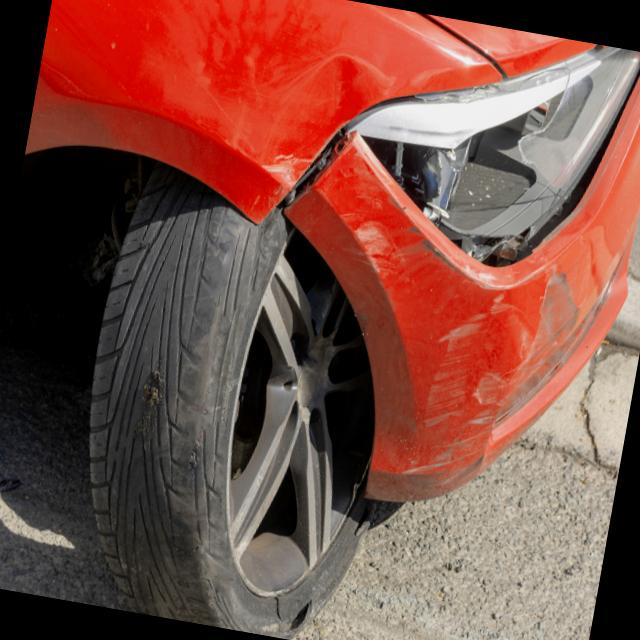Phare abime: (330, 23, 578, 283)
Rayure: (208, 123, 636, 559)
